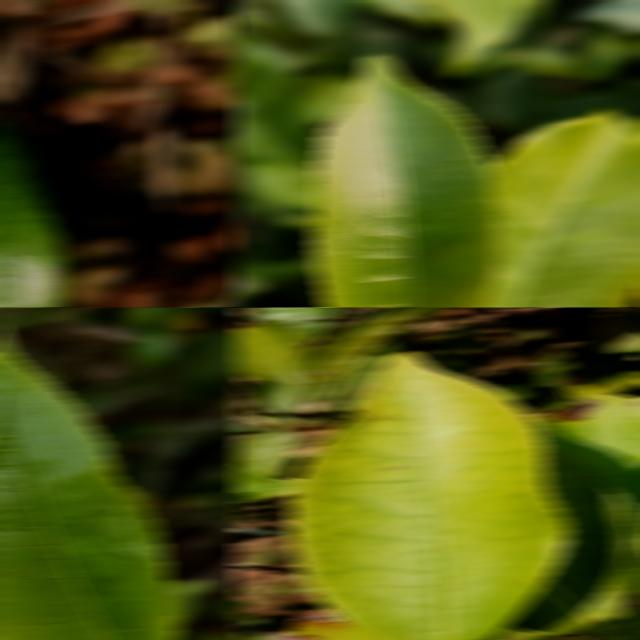Leaf: (287, 351, 570, 640), (0, 333, 179, 640), (308, 56, 502, 307), (508, 384, 640, 634), (480, 110, 640, 307), (306, 307, 458, 406), (232, 27, 316, 177), (408, 0, 528, 76), (232, 320, 314, 384), (232, 426, 300, 476), (248, 307, 344, 341), (273, 0, 354, 38), (287, 608, 382, 640), (232, 461, 299, 500), (573, 0, 640, 34), (583, 369, 640, 392), (603, 607, 640, 640), (542, 395, 571, 410)
